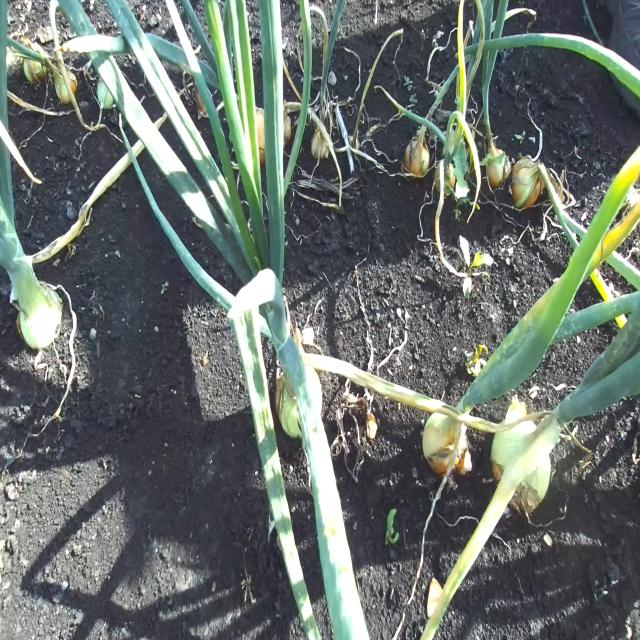onion: (491, 412, 562, 513), (275, 365, 323, 440), (422, 409, 470, 477), (18, 280, 63, 351), (509, 154, 544, 211), (481, 137, 512, 190), (404, 124, 430, 178), (54, 66, 78, 104)
